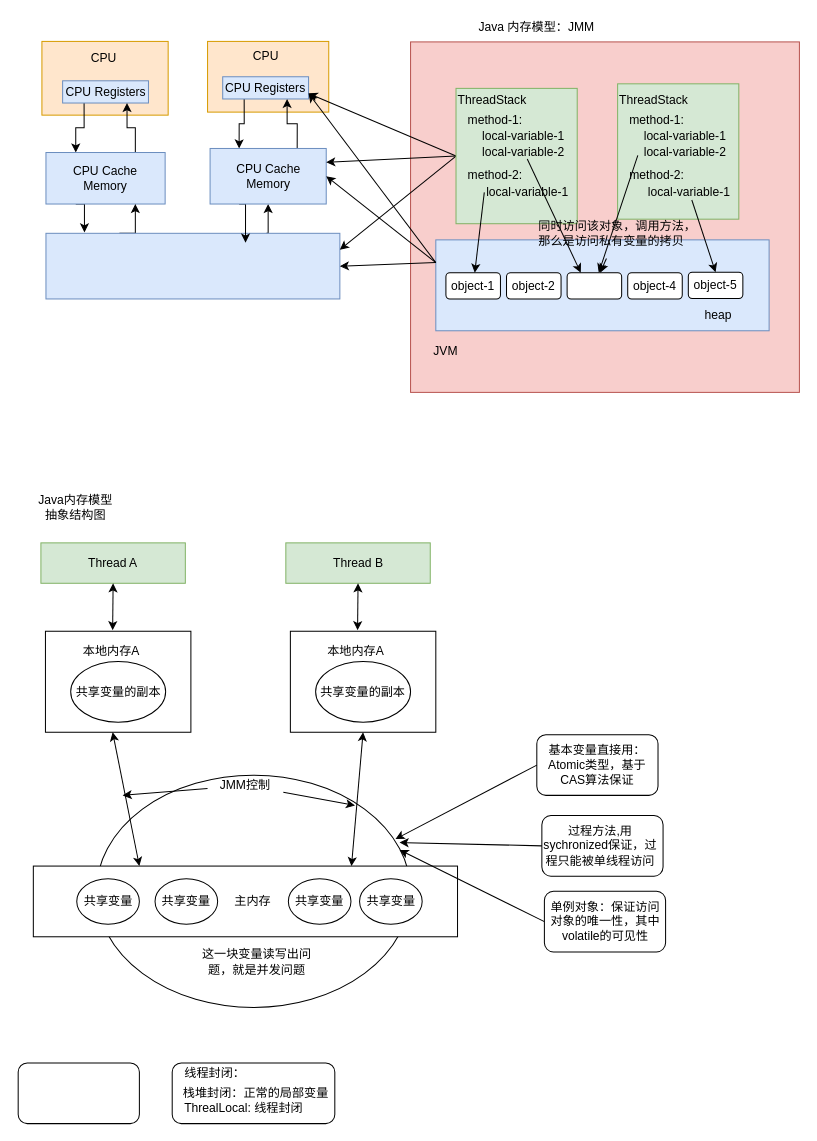
The diagram is 817 pixels wide and 1141 high, and some of its shapes have lost their labels. The centre of each missing label's shape, as x and y in pixels:
object-3: the point at 594,285
RAM- Main Memory (主存): the point at 192,265
对象不可变，将对象，或者属性设定为不可变的，保证使用的不被更改: the point at 78,1093
